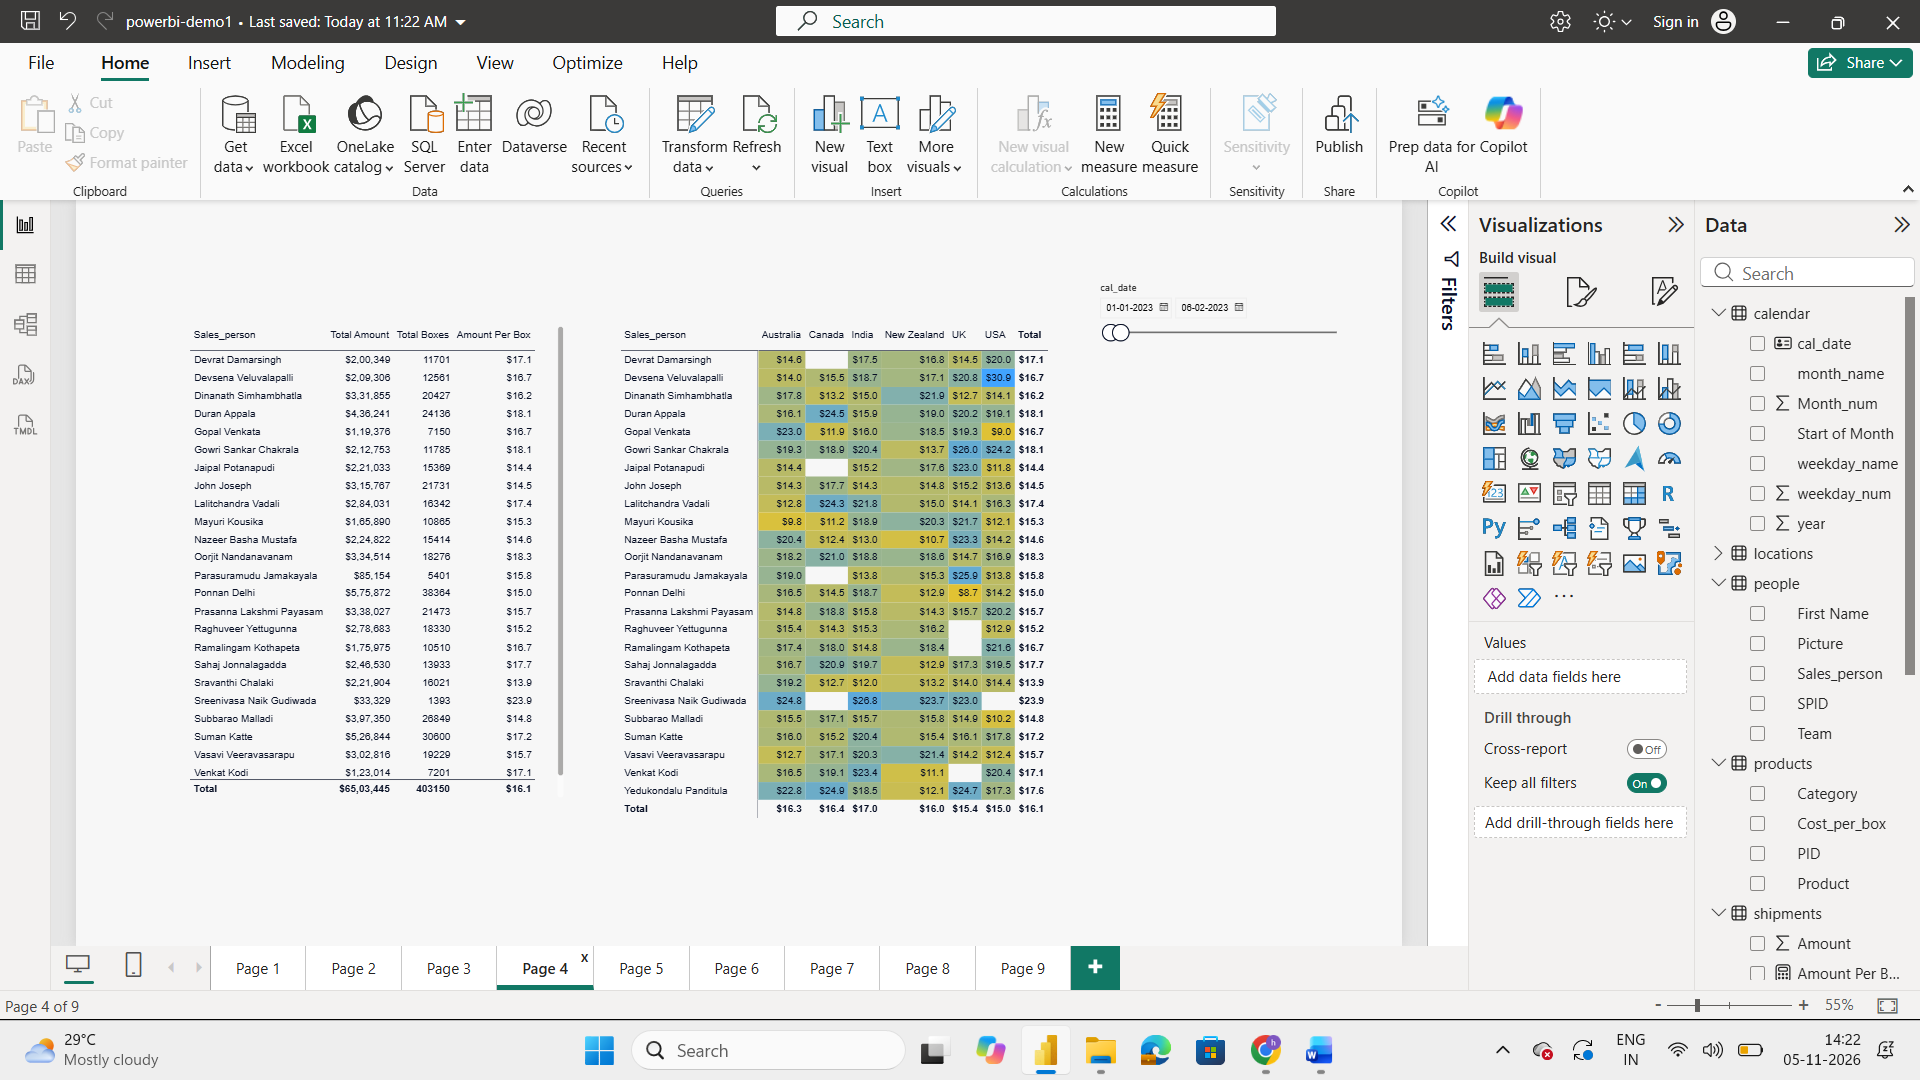

Layout of this report page (visuals, bound fields, positions):
{"tool":"powerbi","page":{"name":"Page 4","canvas":[1920,1080],"ordinal":3},"visuals":[{"type":"tableEx","fields":{"Values":["people.Sales_person","shipments.Total Amount","shipments.Total Boxes","shipments.Amount Per Box"]},"box":[148.4,168.3,573.7,713],"z":0},{"type":"pivotTable","fields":{"Columns":["locations.Geo"],"Rows":["people.Sales_person"],"Values":["shipments.Amount Per Box"]},"box":[772.7,168.3,671.4,767.3],"z":1000},{"type":"slicer","fields":{"Values":["calendar.cal_date"]},"box":[1474.9,117.6,369.2,524.8],"z":2000}]}

Visuals, with their boxes on the page's 1920x1080 design canvas (x1, y1, x2, y2). These are canvas units, not pixel positions in the 1920x1080 screenshot, which may show the page scaled, cropped or inside an application window:
tableEx - people.Sales_person x shipments.Total Amount: BBox(148, 168, 722, 881)
pivotTable - locations.Geo x people.Sales_person: BBox(773, 168, 1444, 936)
slicer - calendar.cal_date: BBox(1475, 118, 1844, 642)
